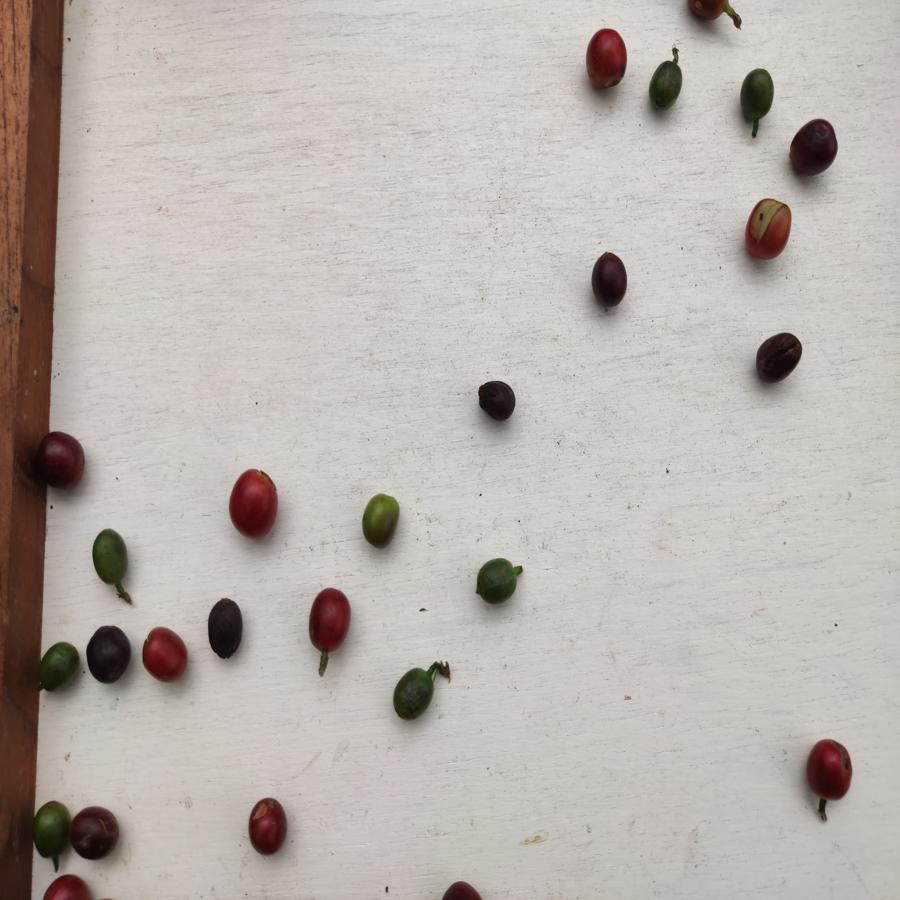Inmaduro: (91, 528, 132, 589), (391, 667, 436, 721), (737, 67, 778, 125), (30, 797, 68, 858), (645, 60, 687, 112), (475, 556, 518, 606), (37, 642, 79, 693)
Maduro: (227, 469, 284, 541), (305, 585, 358, 653), (742, 198, 795, 261), (584, 24, 628, 92), (143, 624, 189, 682)
Pinton: (360, 492, 402, 548)
Sobremaduro: (801, 733, 862, 803), (786, 117, 840, 177), (244, 796, 294, 860), (38, 429, 86, 495), (68, 805, 123, 861), (203, 597, 250, 659), (85, 622, 132, 683), (753, 329, 803, 386), (590, 247, 629, 311), (476, 380, 523, 423), (42, 874, 91, 900)
